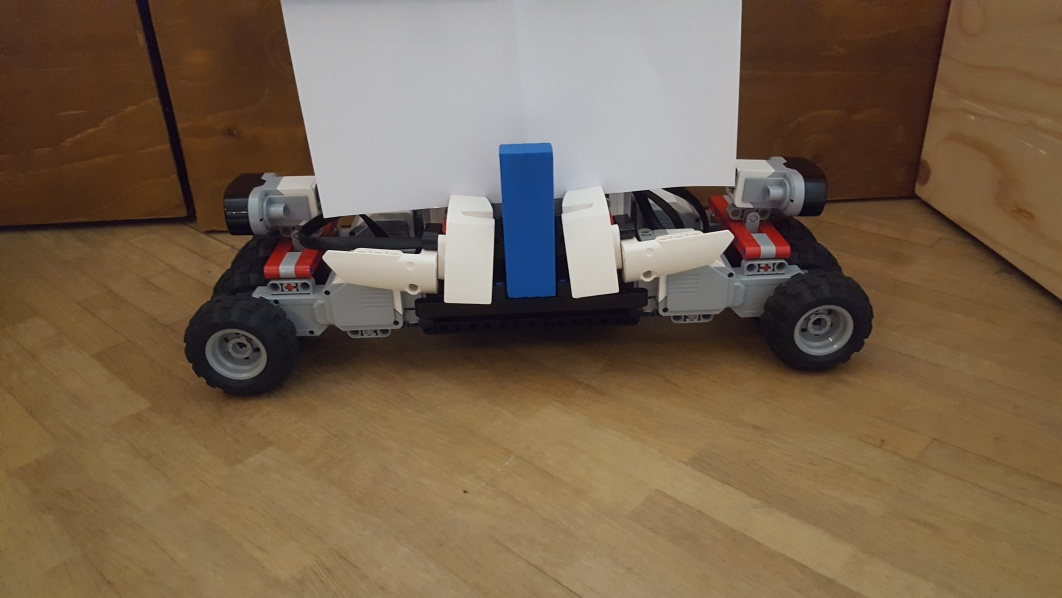car: (184, 1, 875, 397)
